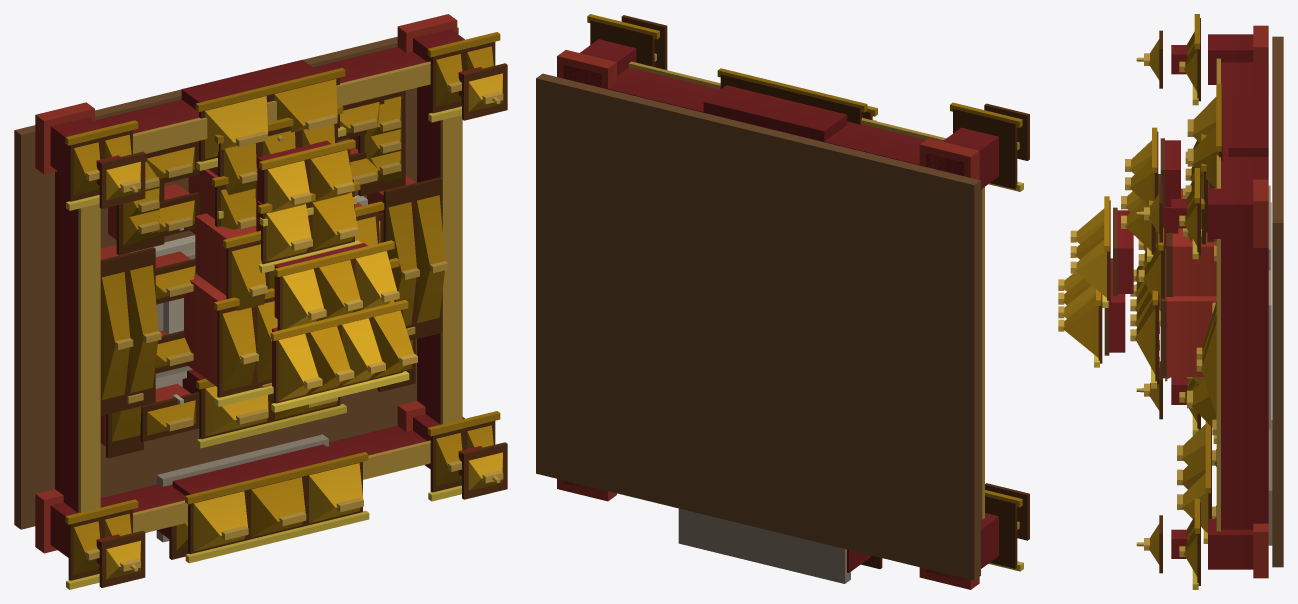
File: forbidden-city.glb
3 views of the same model, side by side, from view 1: azimuth 30°, elevation 25°; view 2: azimuth 150°, elevation 25°; view 3: azimuth 270°, elevation 25° (orthographic). The views are drawn at different scales.
Visible parts, largest first — view 1: part-roofDark, part-gold, part-eave, part-wallDark, part-base, part-roof, part-wall, part-roofLight, part-stoneDark, part-stone; view 2: part-base, part-wallDark, part-eave, part-stoneDark, part-wall, part-gold, part-roofDark; view 3: part-wallDark, part-roofDark, part-wall, part-base, part-roof, part-gold, part-eave, part-beam, part-stone, part-roofLight, part-stoneDark.
Boxes of the visible parts, x1=… form: part-roofDark: x1=65, y1=32, x2=500, y2=574; part-gold: x1=78, y1=61, x2=503, y2=571; part-eave: x1=68, y1=42, x2=507, y2=587; part-wallDark: x1=50, y1=29, x2=482, y2=564; part-base: x1=14, y1=27, x2=458, y2=529; part-roof: x1=106, y1=73, x2=502, y2=579; part-wall: x1=35, y1=14, x2=457, y2=553; part-roofLight: x1=66, y1=106, x2=461, y2=589; part-stoneDark: x1=155, y1=248, x2=328, y2=542; part-stone: x1=130, y1=195, x2=367, y2=404; part-base: x1=536, y1=73, x2=980, y2=580; part-wallDark: x1=563, y1=39, x2=998, y2=580; part-eave: x1=590, y1=15, x2=1029, y2=568; part-stoneDark: x1=678, y1=508, x2=850, y2=583; part-wall: x1=557, y1=50, x2=979, y2=589; part-gold: x1=628, y1=53, x2=1019, y2=529; part-roofDark: x1=587, y1=14, x2=1022, y2=507; part-wallDark: x1=1109, y1=34, x2=1268, y2=569; part-roofDark: x1=1063, y1=14, x2=1221, y2=576; part-wall: x1=1166, y1=25, x2=1268, y2=578; part-base: x1=1272, y1=36, x2=1283, y2=567; part-roof: x1=1063, y1=39, x2=1216, y2=564; part-gold: x1=1058, y1=53, x2=1220, y2=556; part-eave: x1=1098, y1=18, x2=1222, y2=585; part-beam: x1=1104, y1=138, x2=1214, y2=378; part-stone: x1=1268, y1=185, x2=1271, y2=429; part-roofLight: x1=1094, y1=85, x2=1216, y2=589; part-stoneDark: x1=1268, y1=420, x2=1272, y2=545.
Size of the model in its own units: 1.16 by 1.17 by 0.594.
